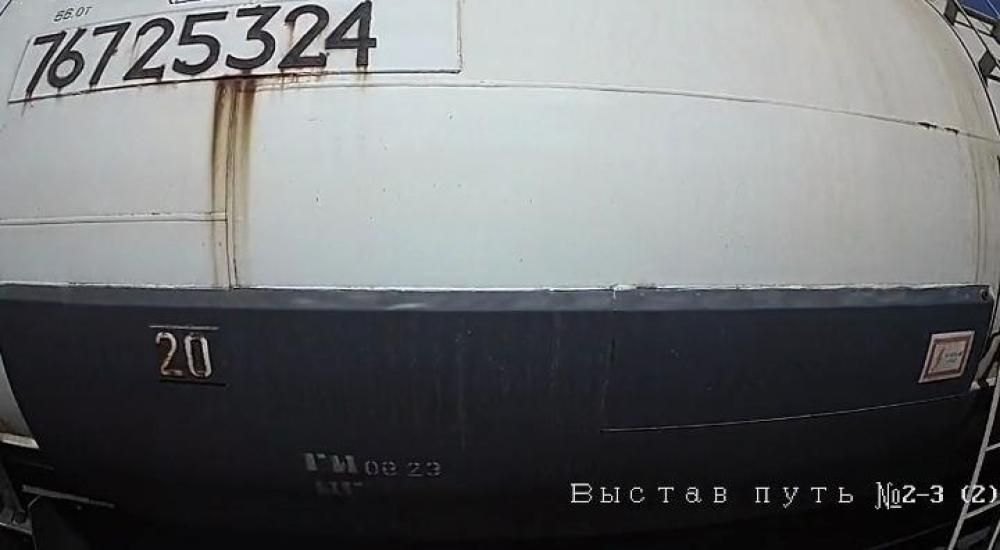Wagon-number: (19, 0, 381, 95)
